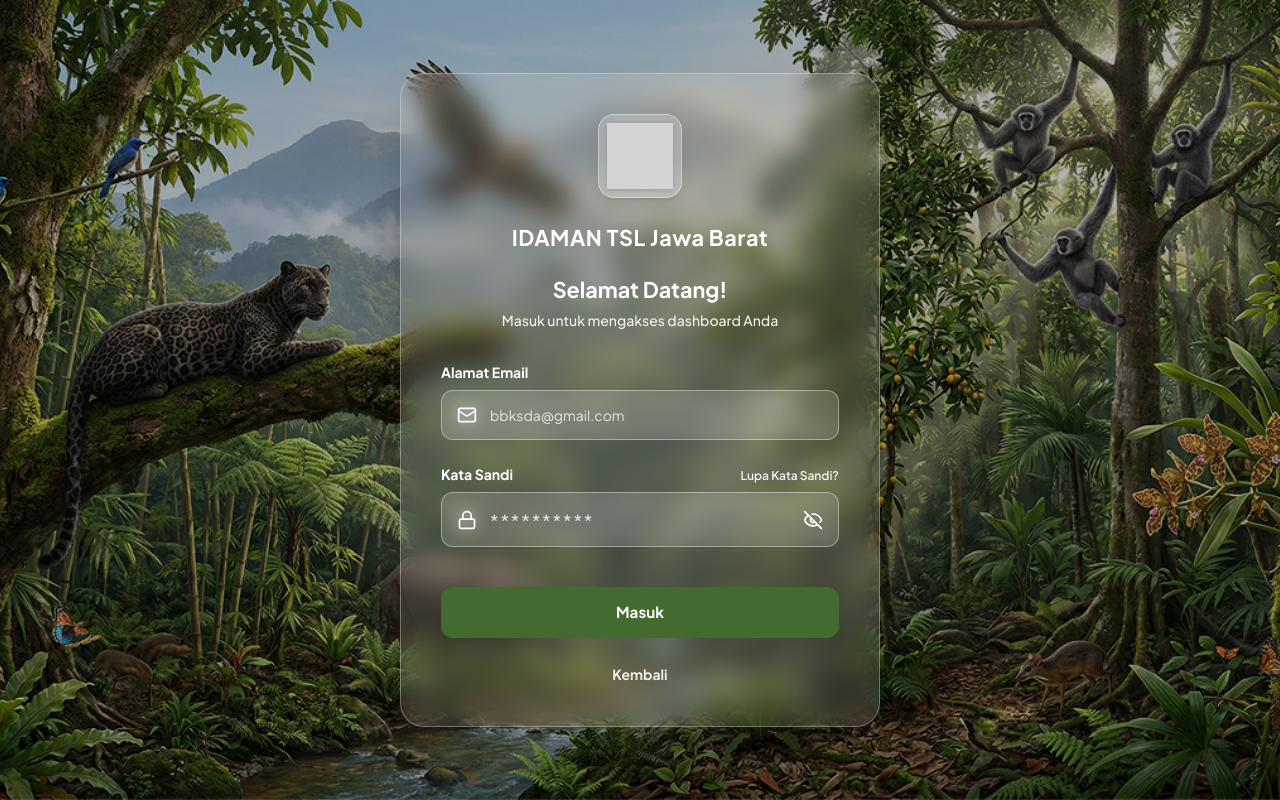
Test case: LoginPage Component (Auth Unit Test) › menampilkan pesan error jika login gagal
Type "salah@email.com" into the field labelled "Alamat Email".
click(640, 416); type("salah@email.com")  # box [441,390,839,440]
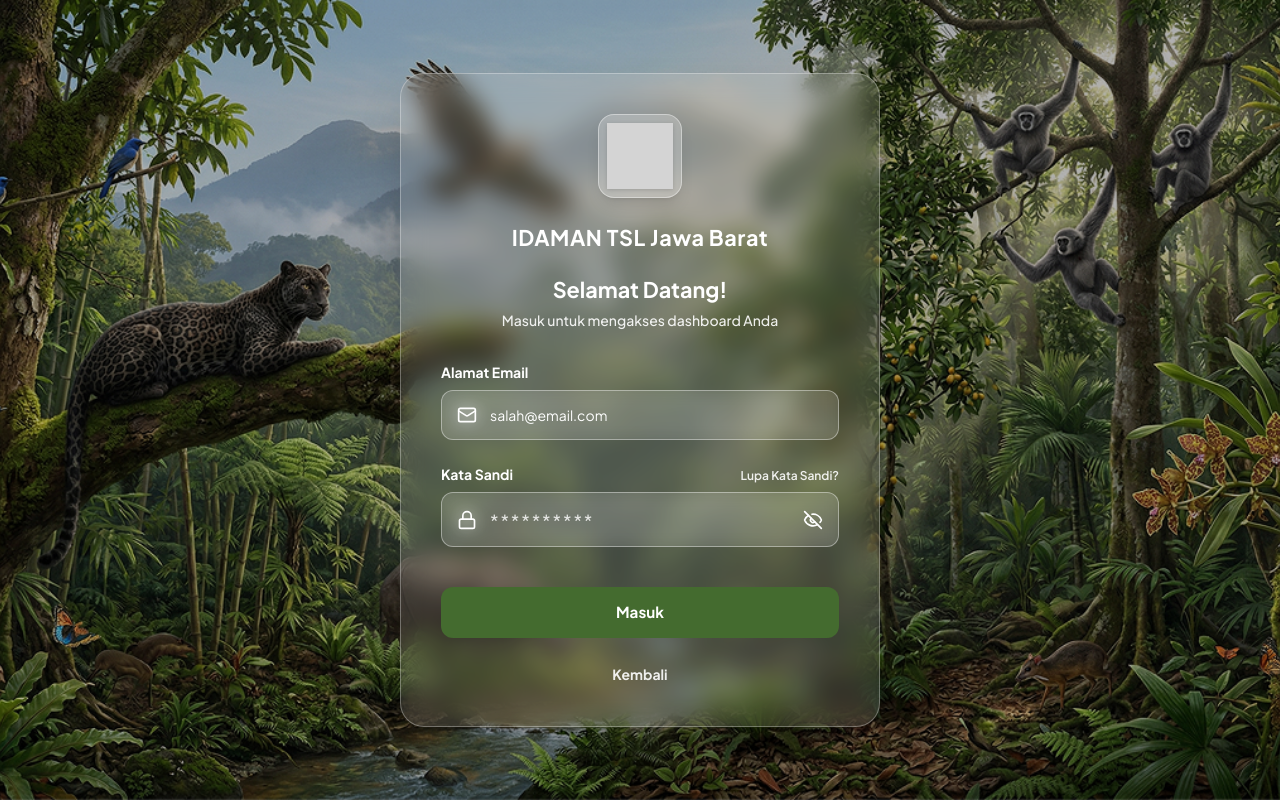
Type "salah" into the password field labelled "Kata Sandi".
click(640, 520); type("salah")  # box [441,492,839,548]
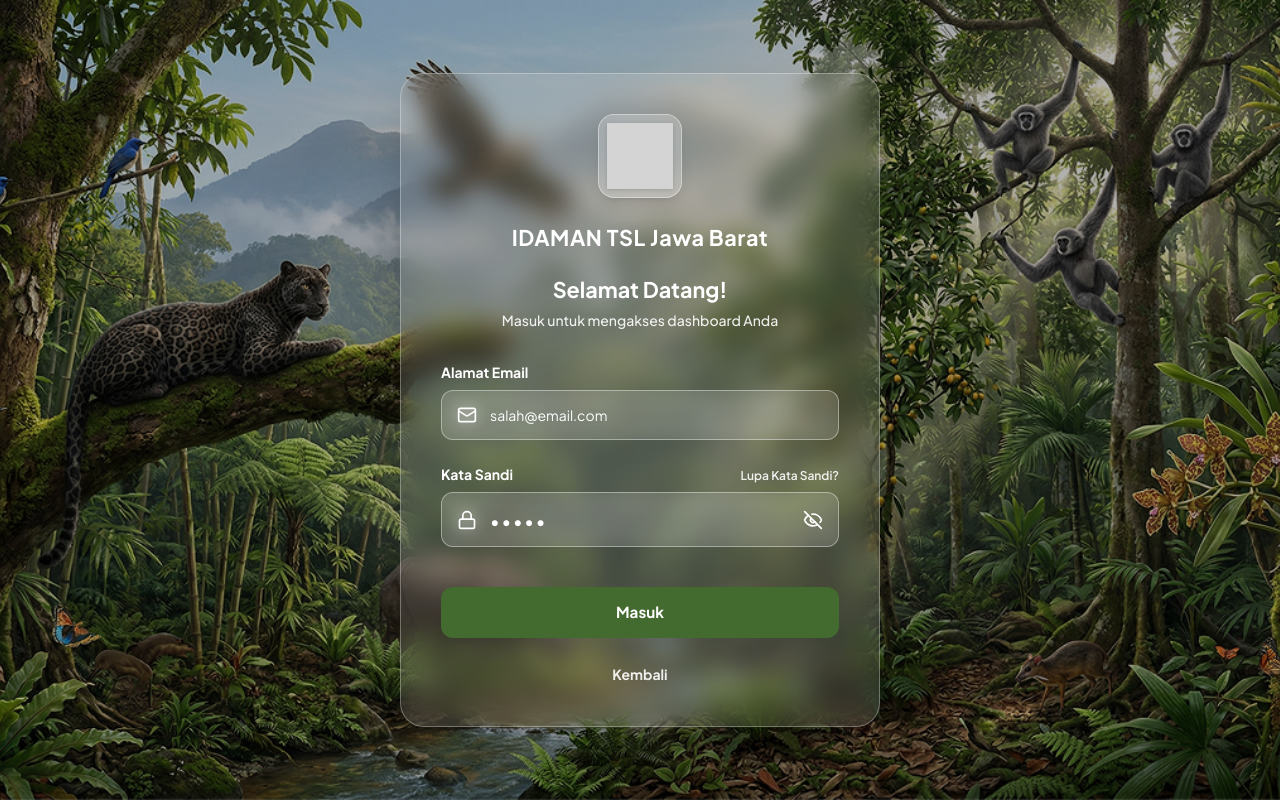
Click the button "Masuk".
click(640, 613)  # box [441,588,839,638]
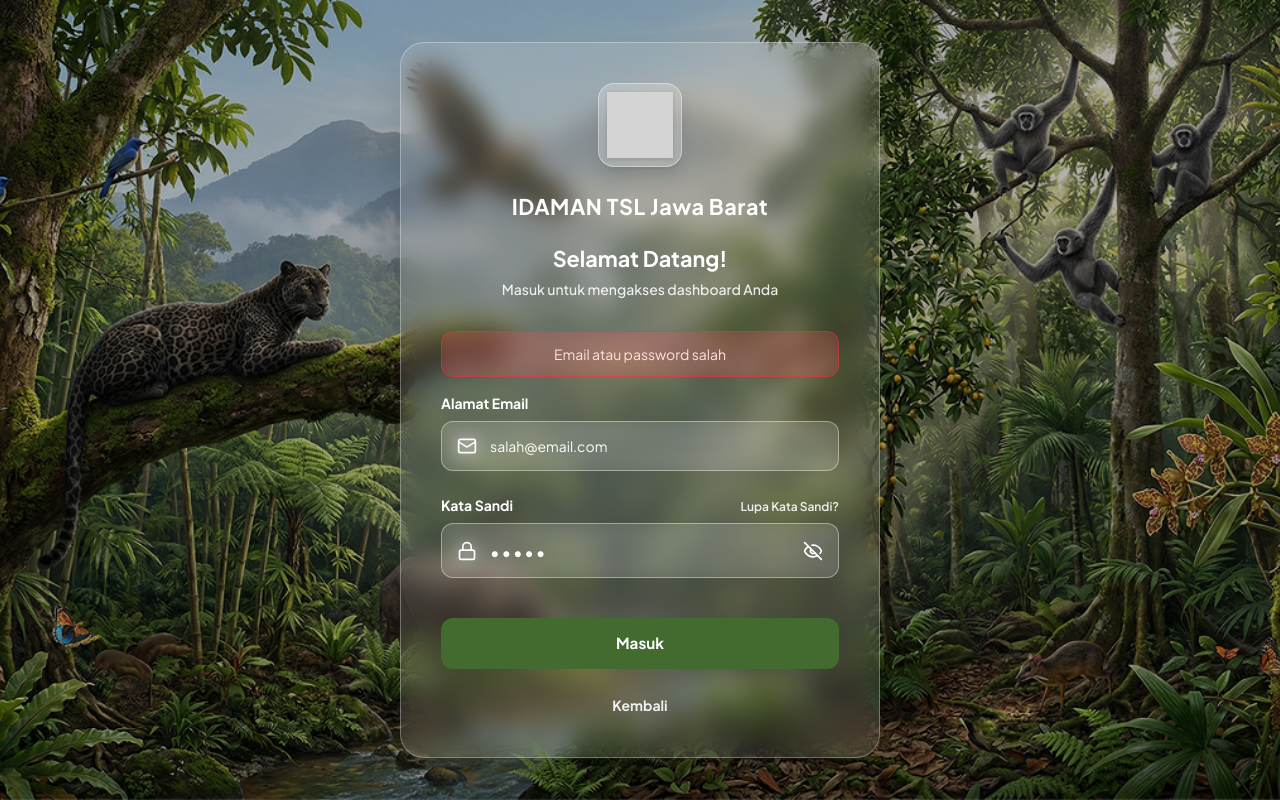
Result: the text "Email atau password salah" is shown at [441,332,839,378]
